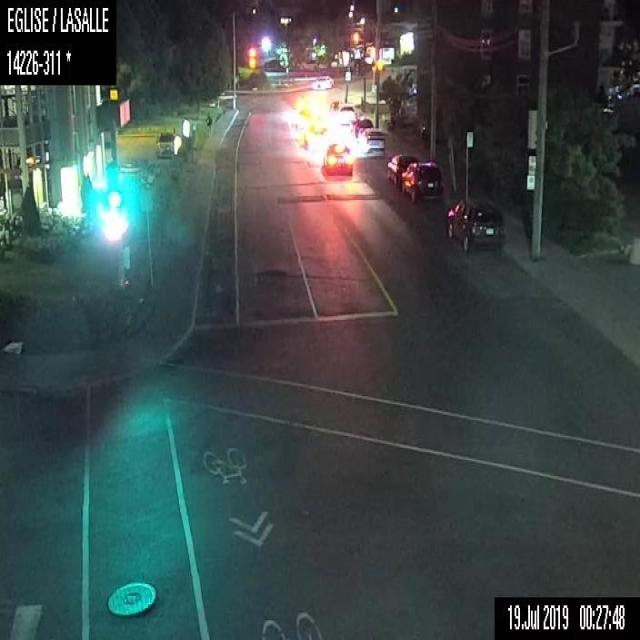pedestrian: (205, 112, 212, 138)
vehicle: (444, 199, 504, 252), (401, 160, 442, 202), (322, 140, 353, 176), (386, 152, 417, 187), (358, 128, 386, 157), (350, 116, 373, 139), (155, 129, 173, 156), (311, 72, 335, 89), (336, 105, 356, 125)
